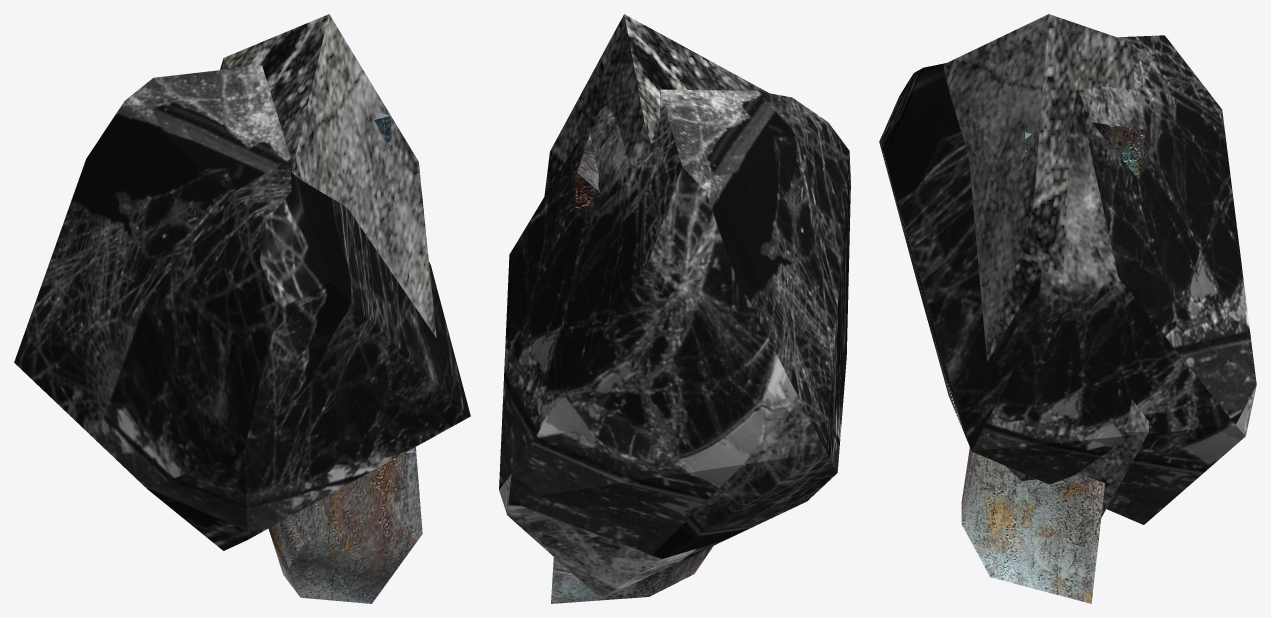
File: 015_all.obj
The picture shows the model from 3 angles, left to right: view 1: azimuth 30°, elevation 25°; view 2: azimuth 150°, elevation 25°; view 3: azimuth 270°, elevation 25°; orthographic projection. The views are drawn at different scales.
Visible parts, largest first — view 1: 01, 05, 02; view 2: 01, 05, 02; view 3: 01, 05, 02.
Boxes of the visible parts, bbox=[...] form: 01: bbox=[14, 65, 470, 550]; 05: bbox=[220, 14, 436, 337]; 02: bbox=[268, 112, 422, 603]; 01: bbox=[499, 89, 850, 598]; 05: bbox=[544, 14, 768, 196]; 02: bbox=[551, 134, 713, 603]; 01: bbox=[879, 35, 1256, 524]; 05: bbox=[943, 14, 1148, 517]; 02: bbox=[961, 119, 1145, 603].
Bounding box in the file's own units: 71.78 × 111 × 66.87.
4 materials, 4 textured.
